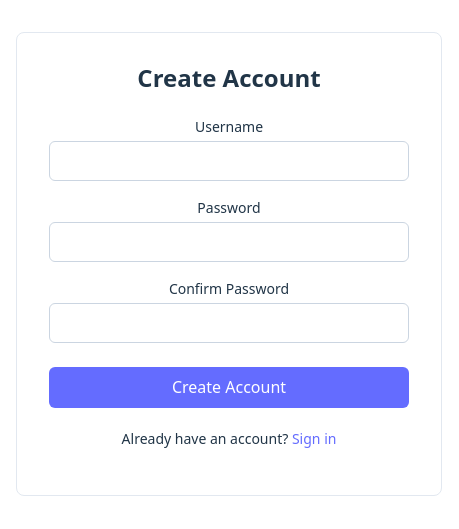
Test: RegisterView — behaviour › shows a generic error for other failures
Type "newuser" into the field with id "username". click: (229, 161)
box: top-left (49, 141), bottom-right (409, 181)
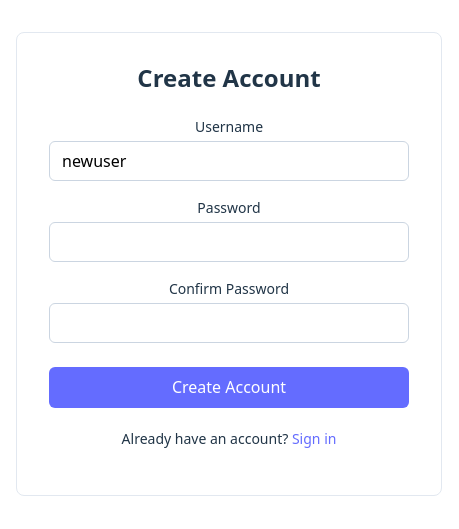
Type "mypassword" into the password field labelled "Password". click: (229, 242)
box: top-left (49, 222), bottom-right (409, 262)
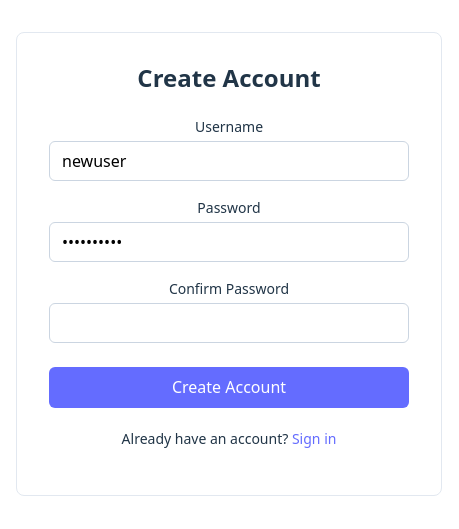
Type "mypassword" into the password field with id "confirm-password". click: (229, 323)
box: top-left (49, 303), bottom-right (409, 343)
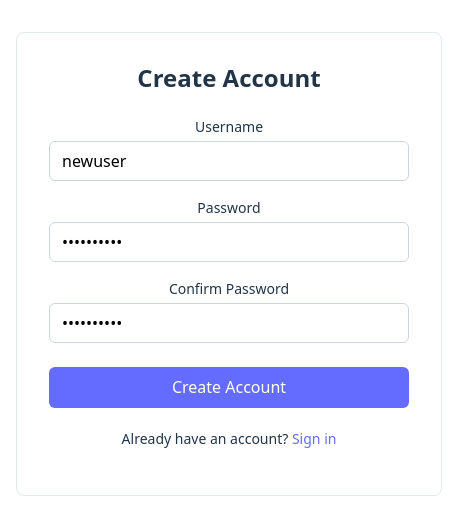
Submit the form, box top-left (49, 116), bottom-right (409, 408)
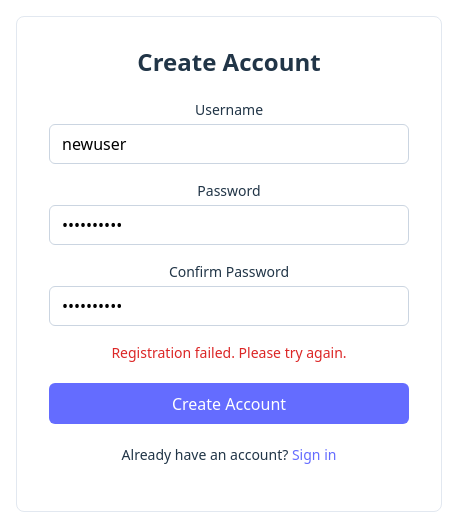
Check: the text with class "error" reads "Registration failed. Please try again.", box top-left (111, 343), bottom-right (347, 362)
